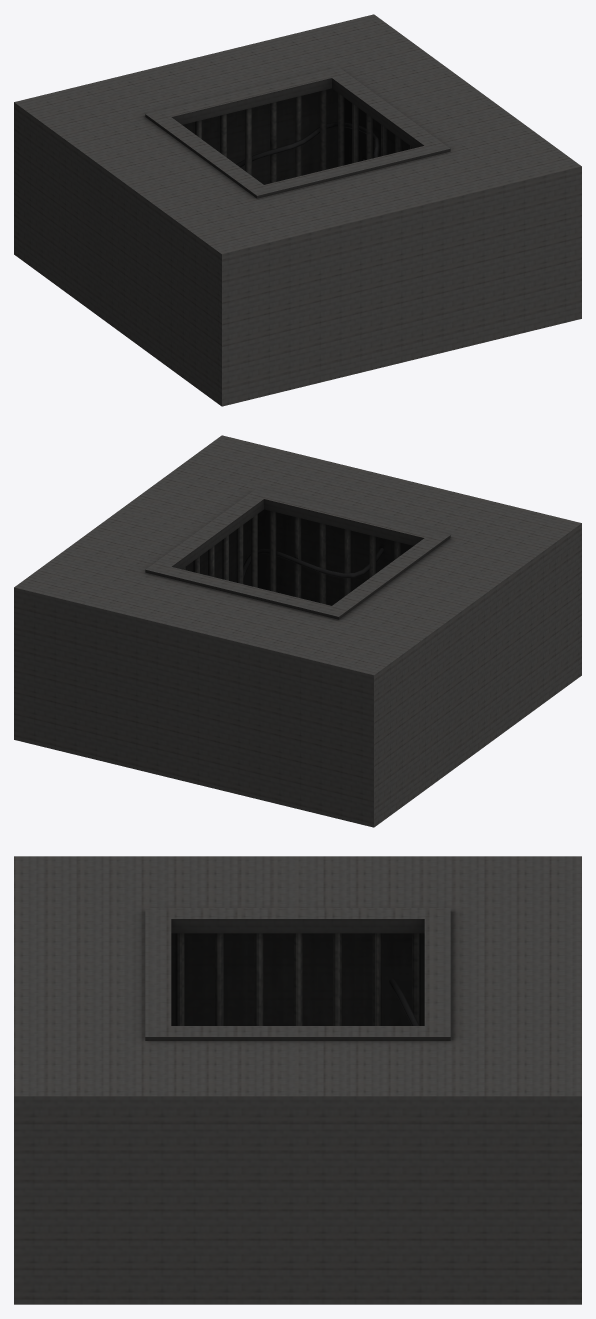
The model's file is Platform3.obj.
The picture shows the model from 3 angles, top to bottom: view 1: azimuth 30°, elevation 25°; view 2: azimuth 150°, elevation 25°; view 3: azimuth 270°, elevation 25°; orthographic projection. The views are drawn at different scales.
Parts seen in each view (by area): view 1: polySurface94; view 2: polySurface94; view 3: polySurface94.
Boxes of the visible parts, <box> form: polySurface94: <box>14,14,581,406</box>; polySurface94: <box>14,435,581,827</box>; polySurface94: <box>14,856,581,1304</box>.
Size of the model in its own units: 171 by 71.57 by 171.
Materials: 1 (1 with a texture image).
